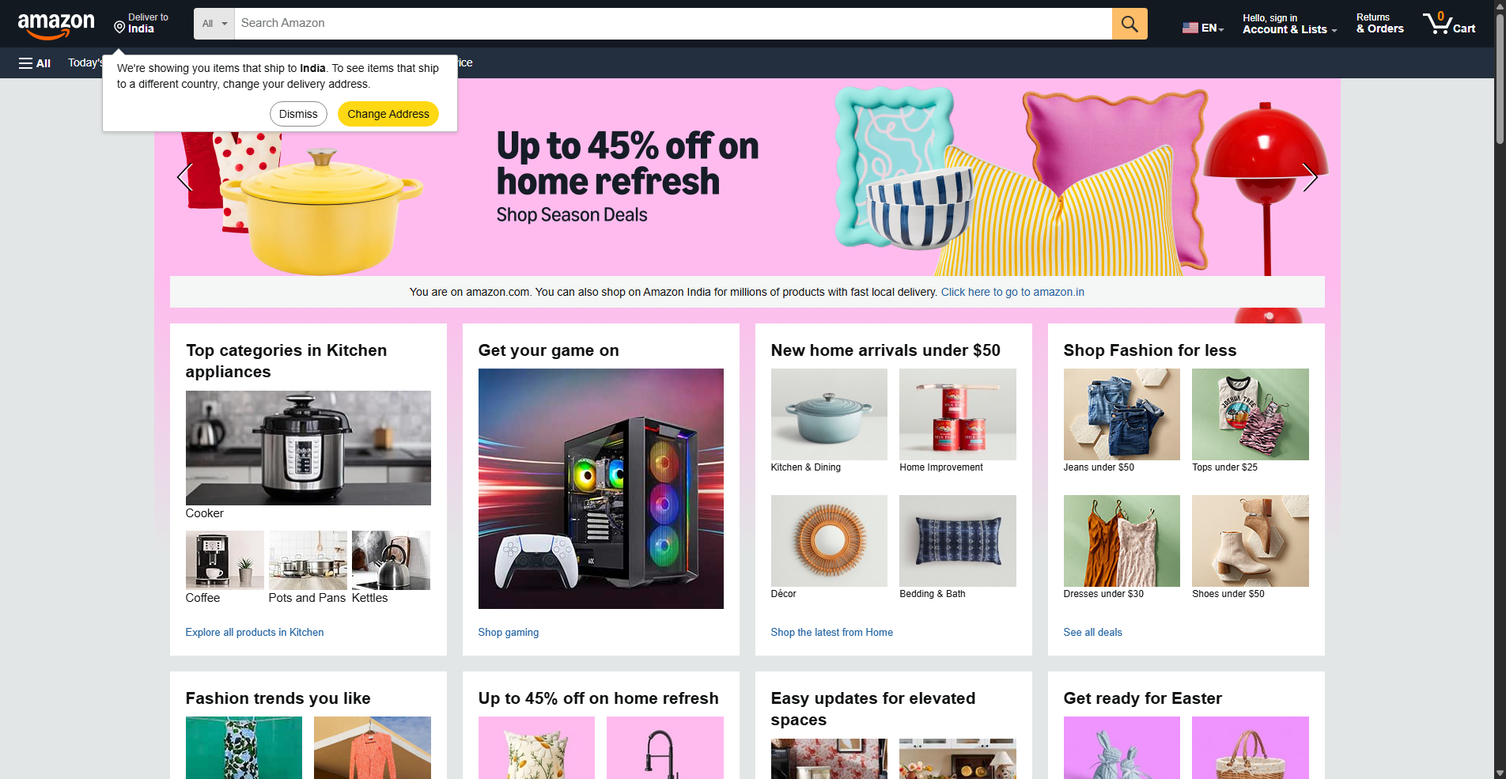button: (154, 78, 1340, 260), (154, 78, 220, 276), (1274, 78, 1340, 276), (107, 4, 175, 43), (338, 101, 439, 127), (339, 102, 438, 126), (270, 101, 327, 127), (12, 47, 58, 78), (270, 102, 327, 126), (1218, 28, 1225, 32), (1331, 29, 1338, 32)
dropdown: (194, 8, 347, 36)
input: (235, 9, 1112, 39), (1112, 8, 1148, 40), (1148, 8, 1156, 40)
link: (154, 78, 1340, 553), (1340, 78, 1506, 553), (0, 78, 154, 553), (478, 369, 723, 644), (185, 390, 431, 521), (1063, 495, 1180, 587), (1192, 495, 1309, 587), (771, 495, 887, 587), (900, 495, 1016, 587), (1063, 369, 1180, 460), (1192, 369, 1309, 460), (771, 369, 887, 460), (900, 369, 1016, 460), (185, 717, 302, 779), (314, 717, 431, 779), (478, 717, 595, 779), (1063, 717, 1180, 779), (1192, 717, 1309, 779), (607, 717, 723, 779), (185, 530, 264, 605), (269, 530, 348, 605), (352, 530, 431, 605), (771, 738, 887, 779), (900, 738, 1016, 779), (1236, 4, 1330, 43), (13, 4, 103, 43), (185, 626, 431, 640), (1063, 626, 1309, 640), (771, 626, 1016, 640), (1416, 4, 1482, 43), (1349, 4, 1411, 43), (381, 51, 477, 74), (64, 51, 140, 74), (941, 286, 1084, 298), (305, 51, 373, 74), (1180, 5, 1217, 44), (148, 51, 206, 74), (248, 51, 297, 74), (214, 51, 240, 74), (6, 78, 20, 91)
